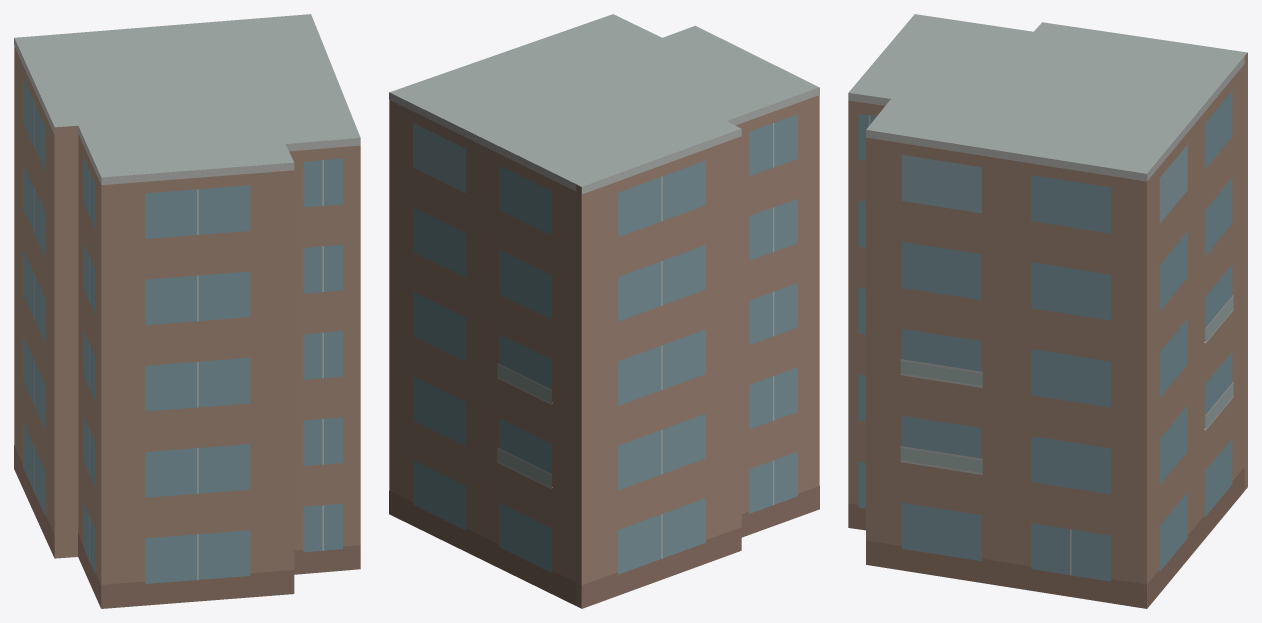
Rendered from survey-upis-32927387.glb.
3 renders of one model, left to right at view 1: azimuth 30°, elevation 25°; view 2: azimuth 150°, elevation 25°; view 3: azimuth 270°, elevation 25°, orthographic. The views are drawn at different scales.
Visible parts, largest first — view 1: survey-upis-32927387.tmp; view 2: survey-upis-32927387.tmp; view 3: survey-upis-32927387.tmp.
Part boxes in pixels (left/top/right/bottom): survey-upis-32927387.tmp: left=14, top=14, right=360, bottom=608; survey-upis-32927387.tmp: left=389, top=14, right=819, bottom=608; survey-upis-32927387.tmp: left=848, top=14, right=1247, bottom=608.
Size of the model in its own units: 10.89 by 13.8 by 11.5.
